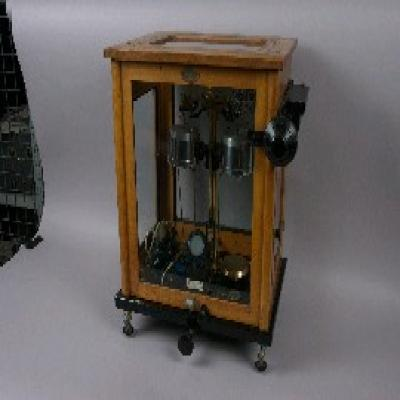technique: (102, 33, 308, 369)
